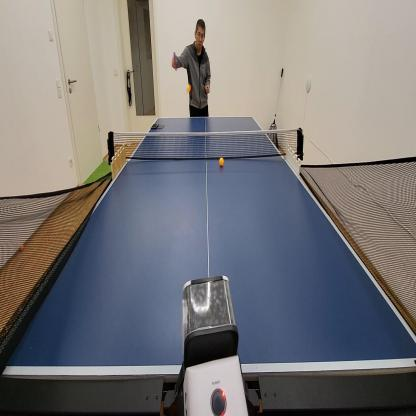Ball: (186, 83, 192, 94), (219, 156, 224, 168), (20, 242, 24, 251)
